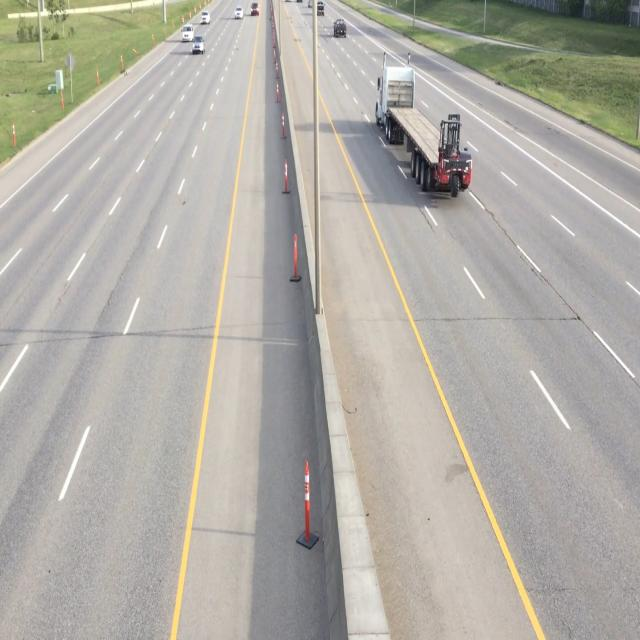Car: (374, 52, 473, 200), (331, 16, 350, 41), (190, 35, 207, 56)
